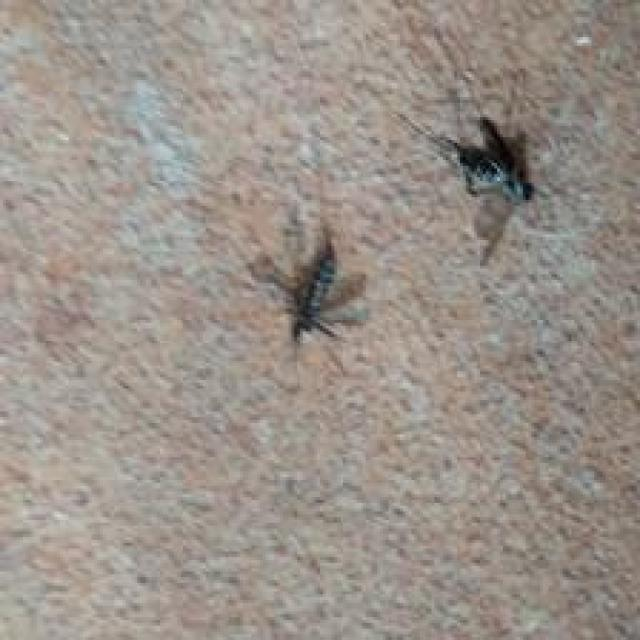Aedes albopictus: (396, 90, 547, 267)
